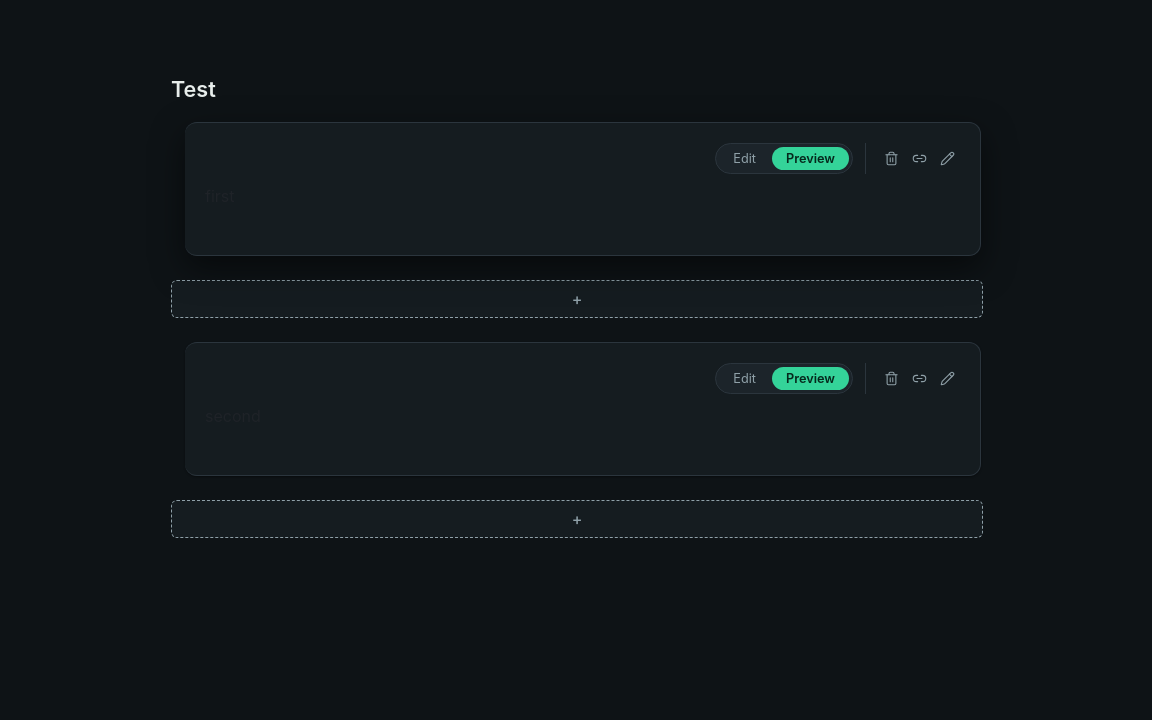
trash with asking on parks a dialog and deletes nothing
Step 1. Click the 1st element titled "Delete this Box from the Notebook" → (891, 158), box [884,151,898,166]
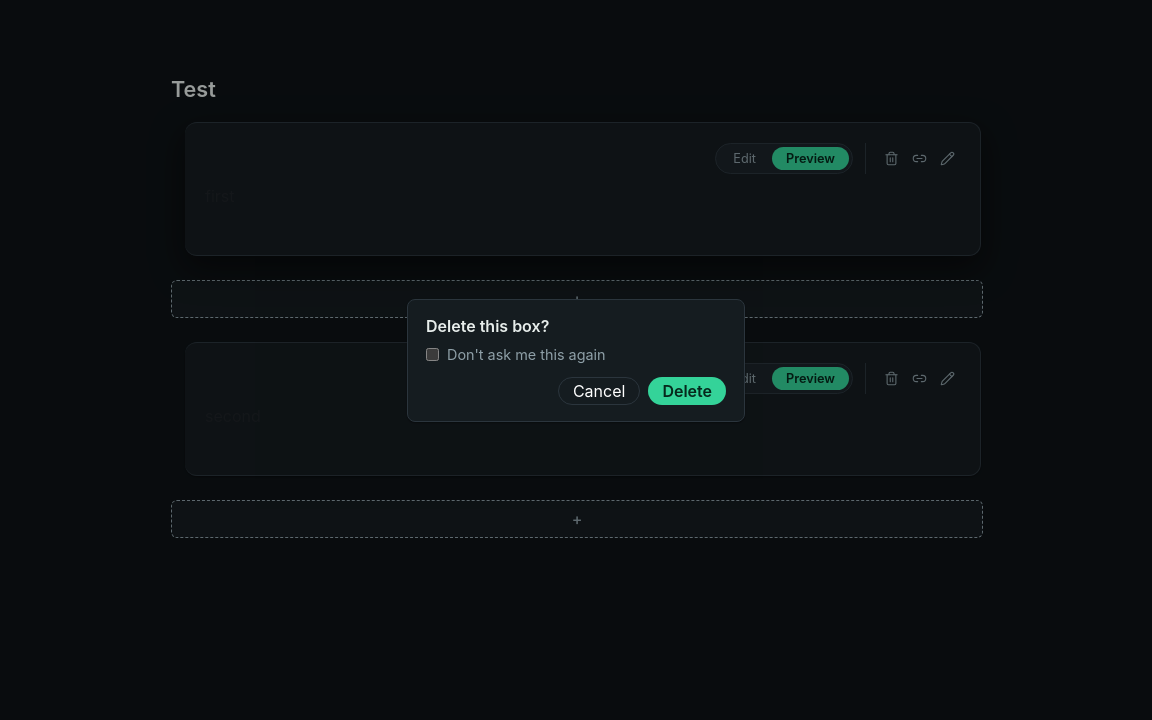
Expected: the element with class "box-delete-confirm" is shown
